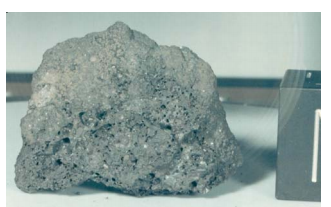Breccia: (13, 15, 243, 198)
